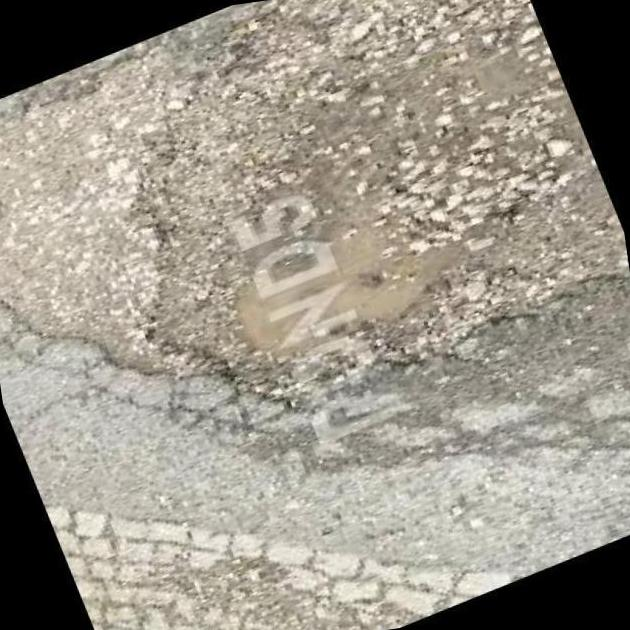pothole: (99, 70, 524, 428)
